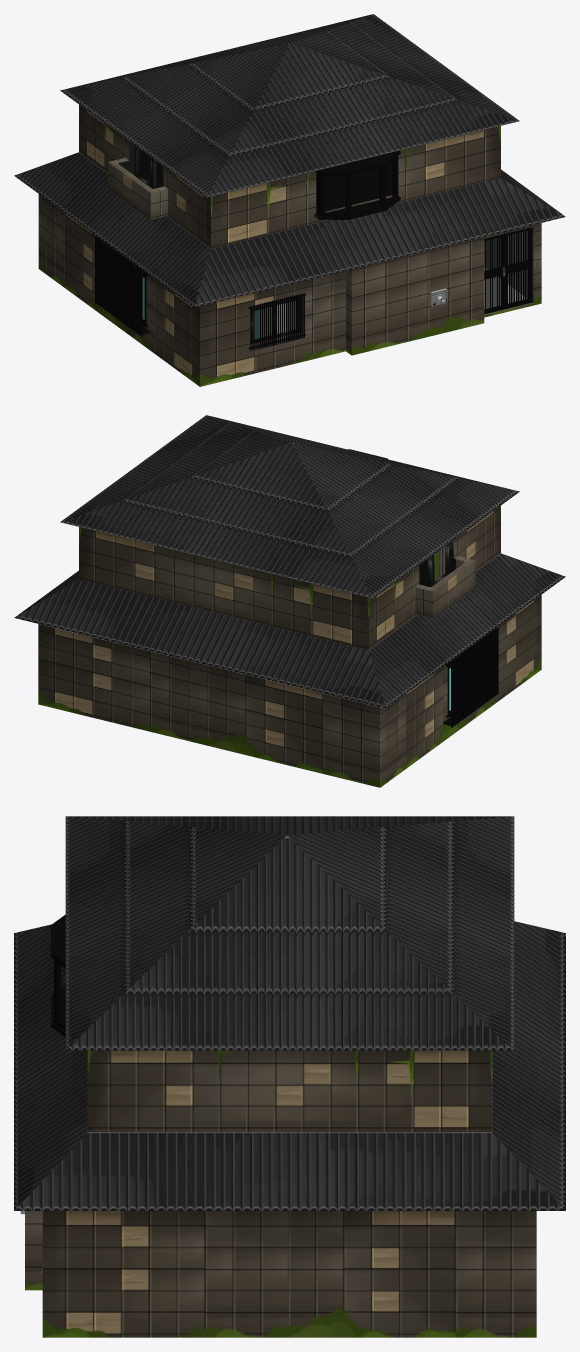
Rendered from House_3_Brown_empty.fbx.
3 views of the same model, one above another, from view 1: azimuth 30°, elevation 25°; view 2: azimuth 150°, elevation 25°; view 3: azimuth 270°, elevation 25° (orthographic). The views are drawn at different scales.
Parts seen in each view (by area): view 1: A2, A, A3, Cube.054, Cube.056, Cube.078, Cube.058, Cube.063; view 2: A2, A, A3, Cube.054; view 3: A, A2, A3.
Part boxes in pixels (x1=…): A2: x1=14, y1=43, x2=565, y2=307; A: x1=60, y1=14, x2=519, y2=197; A3: x1=38, y1=194, x2=541, y2=386; Cube.054: x1=95, y1=236, x2=142, y2=336; Cube.056: x1=250, y1=293, x2=304, y2=350; Cube.078: x1=505, y1=227, x2=532, y2=308; Cube.058: x1=484, y1=234, x2=505, y2=314; Cube.063: x1=251, y1=298, x2=299, y2=344; A2: x1=14, y1=442, x2=565, y2=708; A: x1=60, y1=415, x2=519, y2=598; A3: x1=38, y1=595, x2=541, y2=787; Cube.054: x1=451, y1=627, x2=498, y2=727; A: x1=65, y1=816, x2=514, y2=1050; A2: x1=14, y1=835, x2=565, y2=1210; A3: x1=25, y1=1211, x2=536, y2=1337.
Bounding box in the file's own units: 1371 × 860 × 1151.
